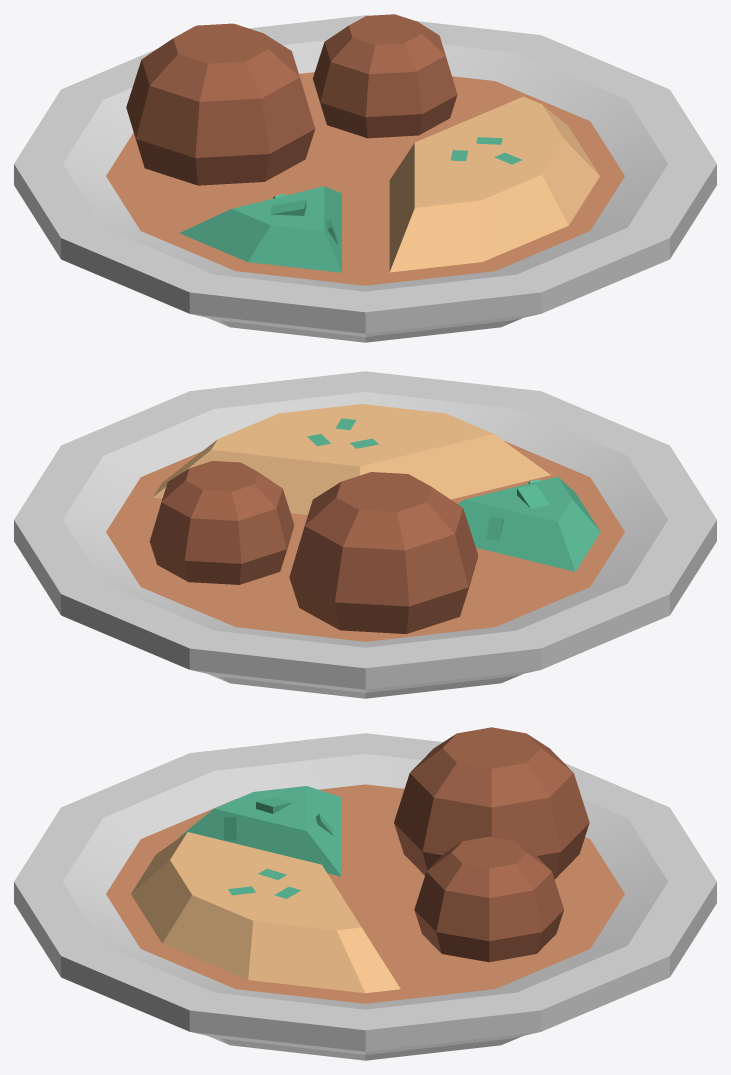
File: plateDinner.fbx
The picture shows the model from 3 angles, top to bottom: view 1: azimuth 30°, elevation 25°; view 2: azimuth 150°, elevation 25°; view 3: azimuth 270°, elevation 25°; orthographic projection.
Parts seen in each view (by area): view 1: plateDinner; view 2: plateDinner; view 3: plateDinner.
Boxes of the visible parts, bbox=[...] form: plateDinner: bbox=[14, 14, 716, 342]; plateDinner: bbox=[14, 371, 716, 698]; plateDinner: bbox=[14, 727, 716, 1060].
Size of the model in its own units: 8.92 by 2.21 by 8.92.
